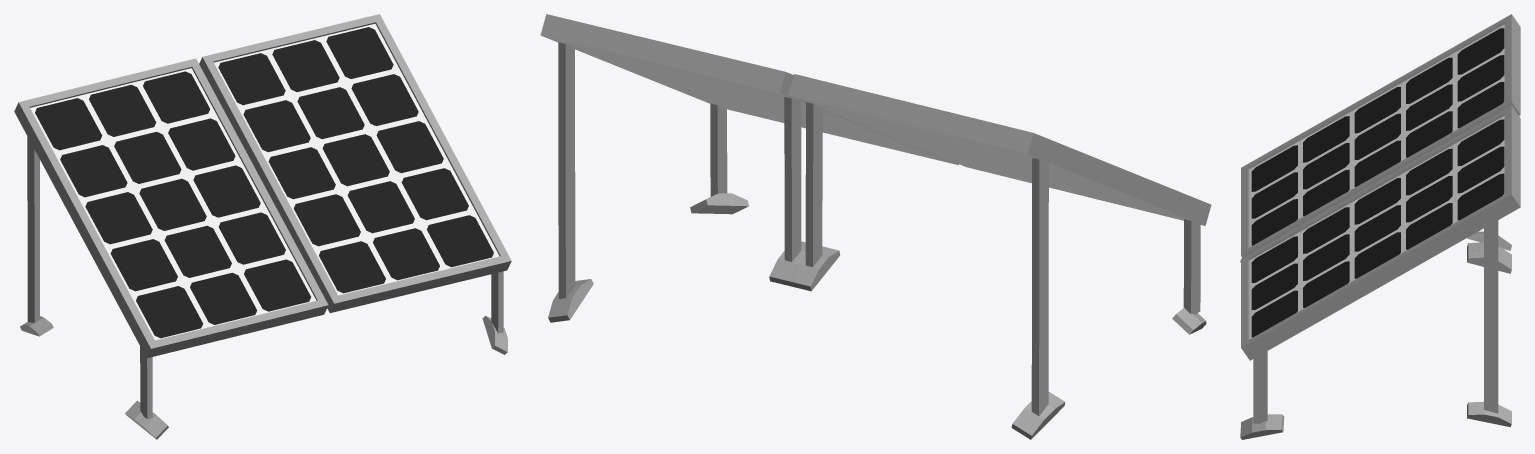
Rendered from Solar Panel Roof.glb.
3 renders of one model, left to right at view 1: azimuth 30°, elevation 25°; view 2: azimuth 150°, elevation 25°; view 3: azimuth 270°, elevation 25°, orthographic. The views are drawn at different scales.
Parts seen in each view (by area): view 1: SolarPanel_Roof; view 2: SolarPanel_Roof; view 3: SolarPanel_Roof.
Part boxes in pixels (x1,y1,x2,y2): SolarPanel_Roof: (14,14,511,439); SolarPanel_Roof: (540,14,1211,439); SolarPanel_Roof: (1240,14,1520,439).
Bounding box in the file's own units: 2.73 × 1.7 × 1.73.
1 material, 1 textured.
